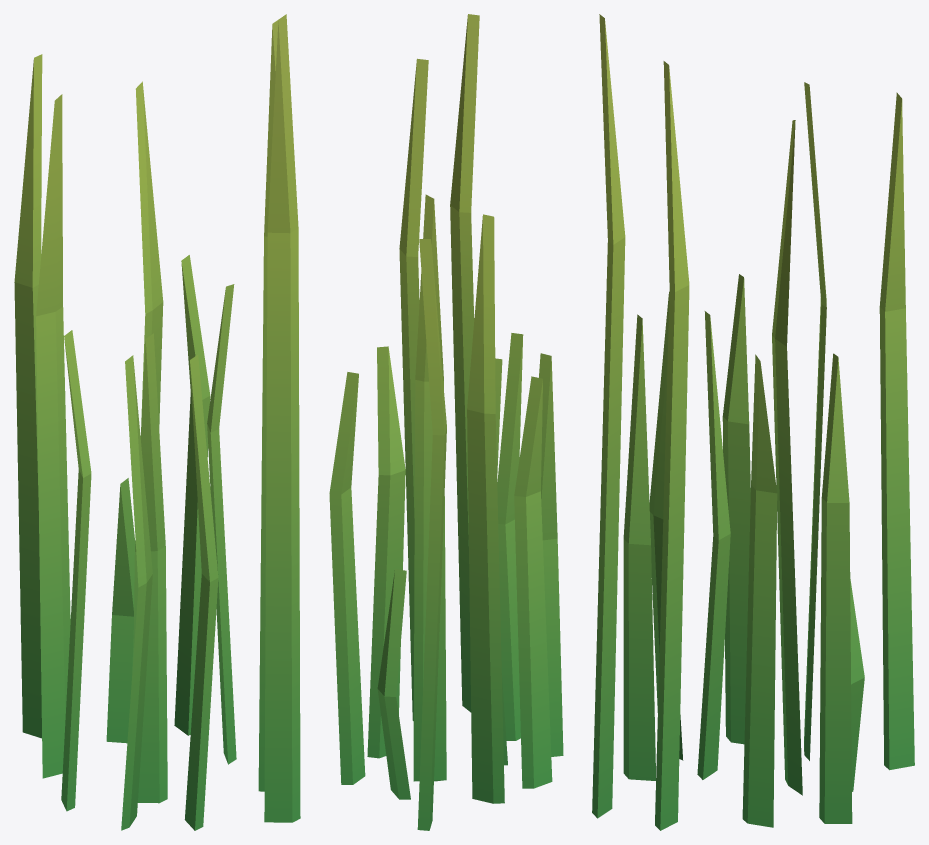
The model's file is Grass_2.fbx.
3 views of the same model, side by side, from view 1: azimuth 30°, elevation 25°; view 2: azimuth 150°, elevation 25°; view 3: azimuth 270°, elevation 25° (orthographic). The views are drawn at different scales.
Parts seen in each view (by area): view 1: Grass_2; view 2: Grass_2; view 3: Grass_2.
Part boxes in pixels (x1=…): Grass_2: x1=14, y1=14, x2=300, y2=830; Grass_2: x1=329, y1=14, x2=563, y2=830; Grass_2: x1=592, y1=14, x2=914, y2=830.
Size of the model in its own units: 0.3162 by 1.2 by 0.4417.
